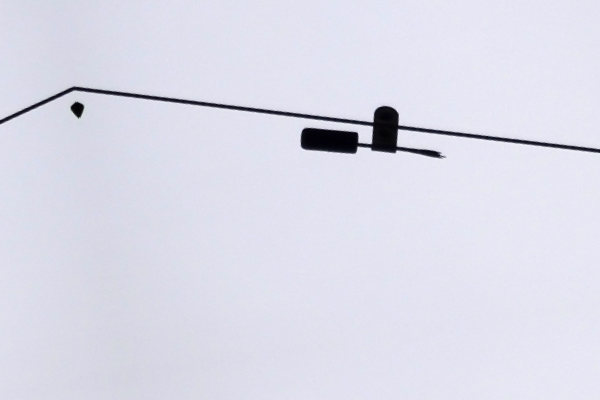damper_defect: (297, 104, 447, 162)
